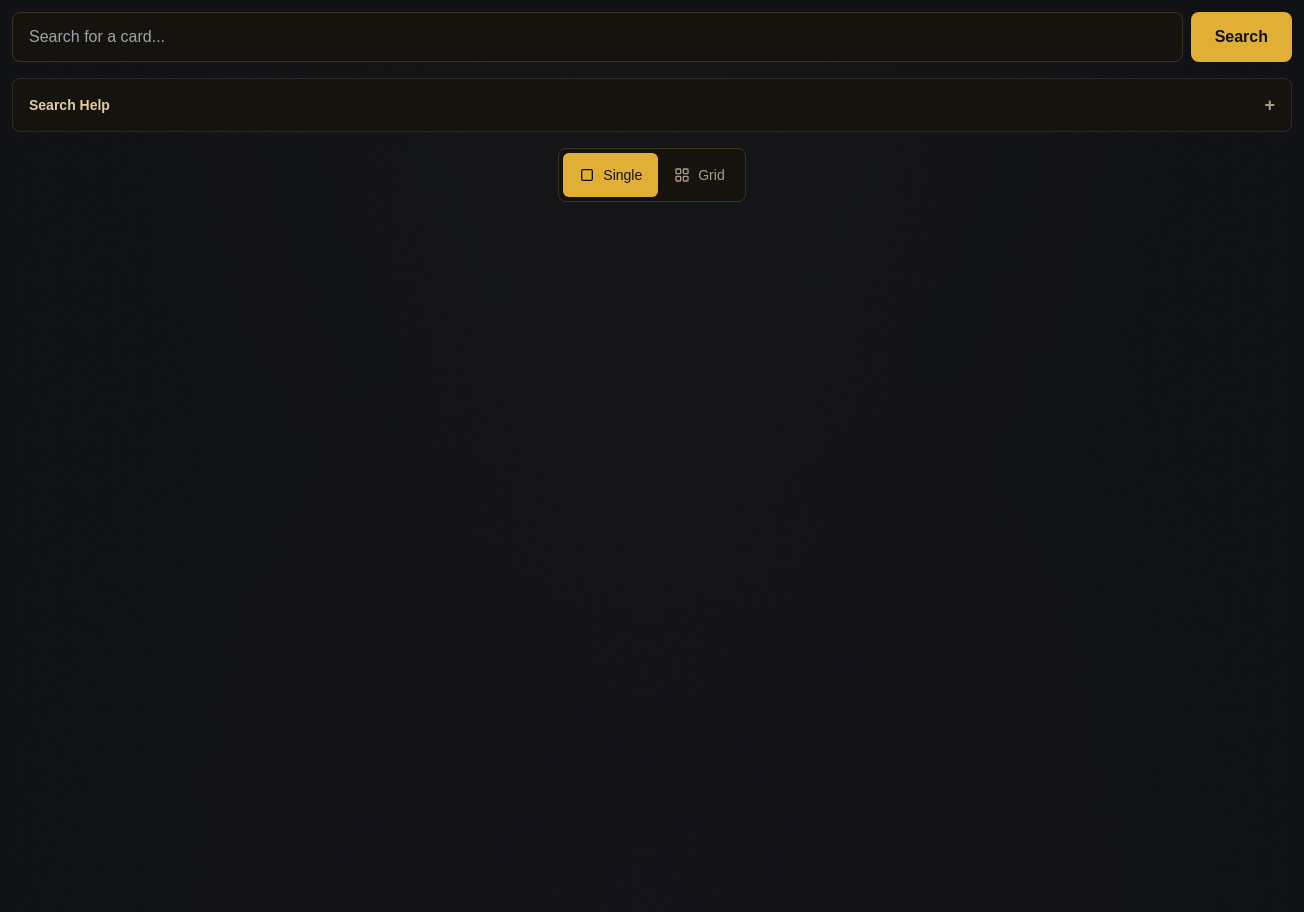
Test: CardSearch › shows grid view when grid mode selected
# Click grid button
Click the button "Grid". click: point(699, 175)
box: [658,153,741,197]
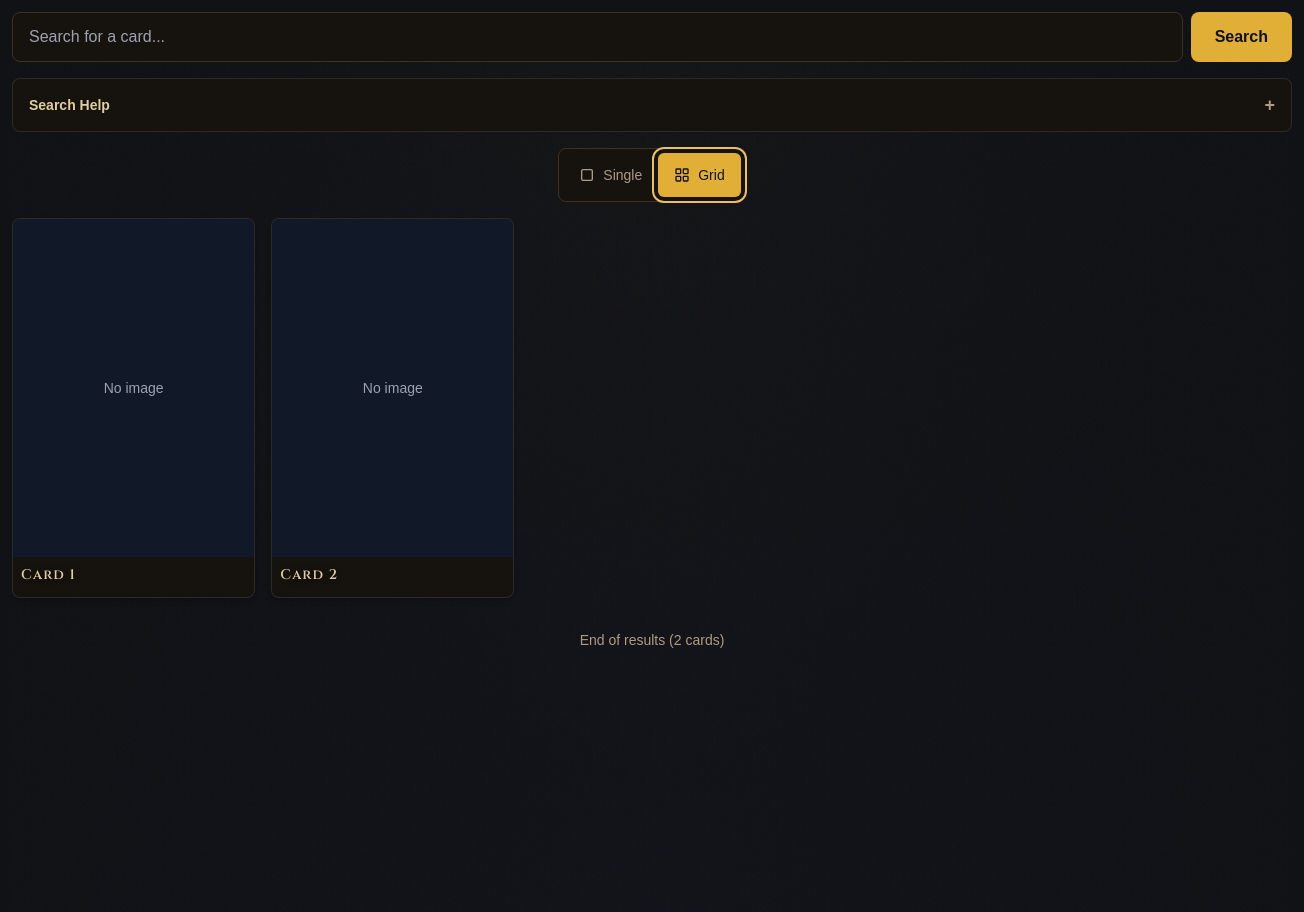
Now the element with test id "card-grid" is shown, box [12,218,514,598]
